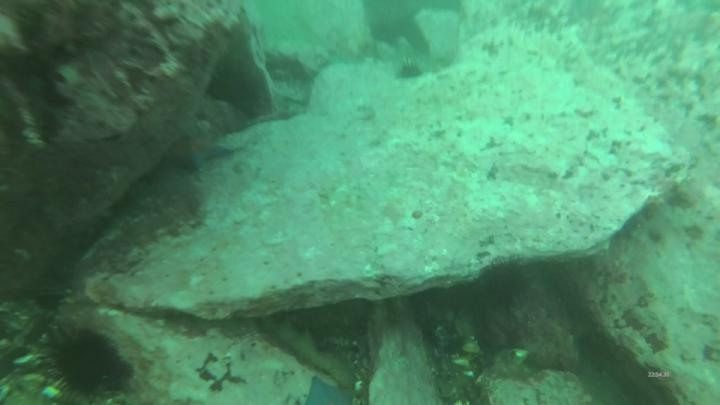echinus: (53, 336, 125, 395)
starfish: (172, 137, 234, 173)
